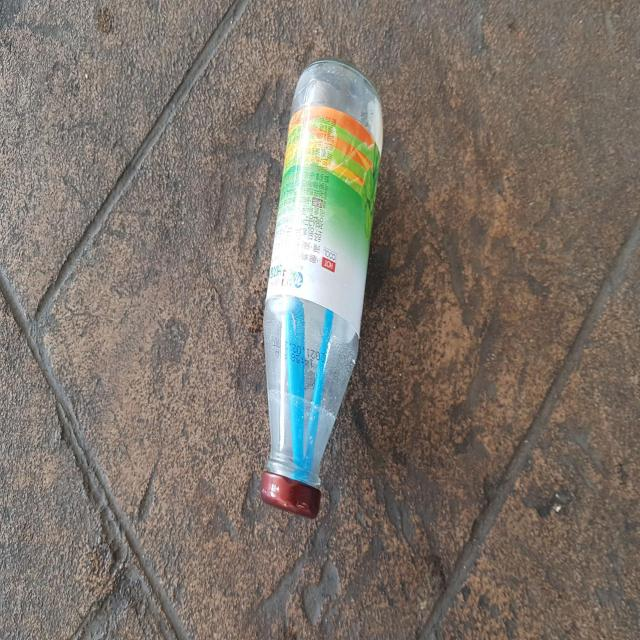glass: (261, 58, 383, 518)
